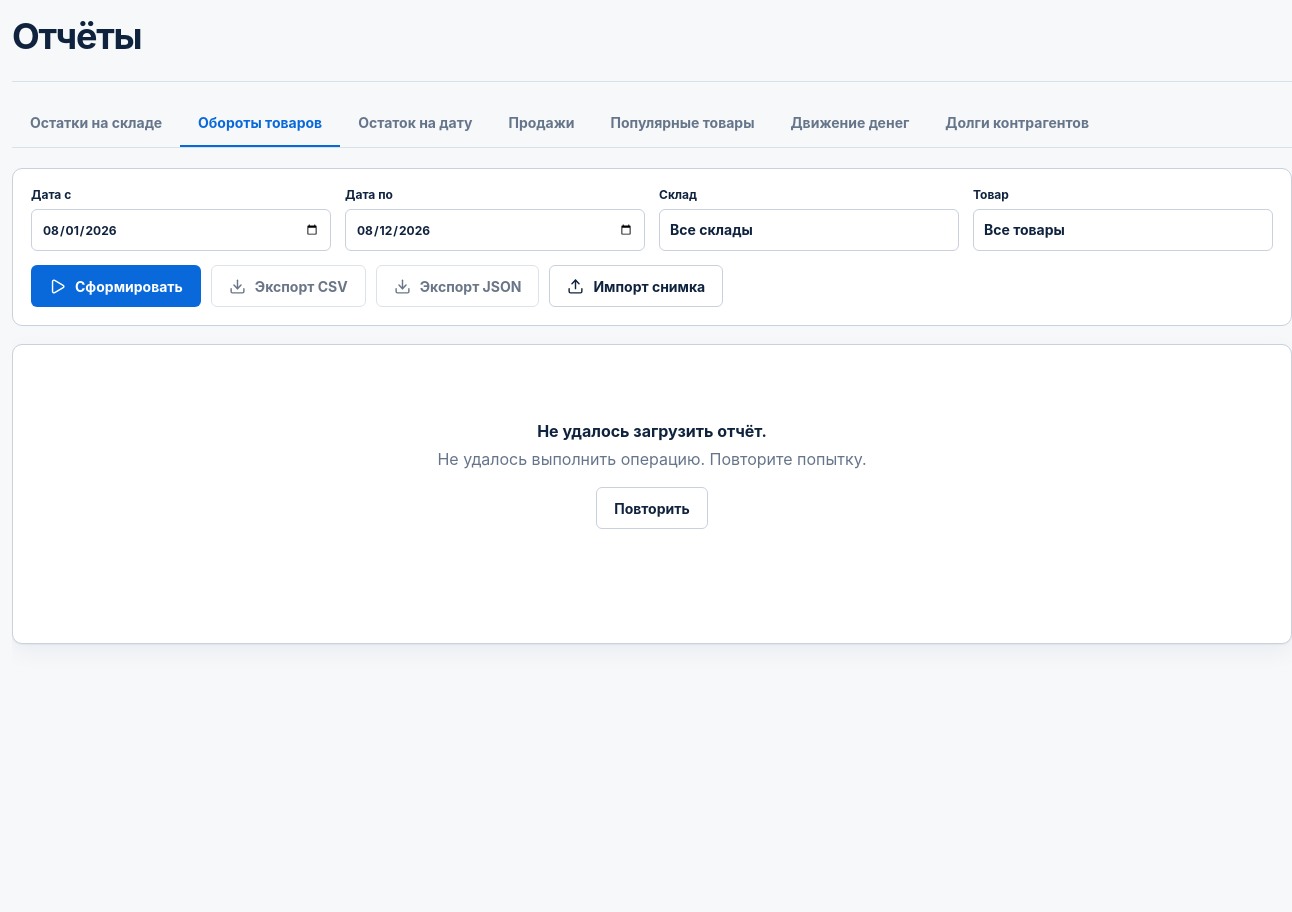
Scenario: reports workspace › shows report errors and retries
Expected: the text "Не удалось загрузить отчёт." is shown, [537,421,767,441]
Click the button "Повторить" at point(652, 508), box [596,487,708,529]
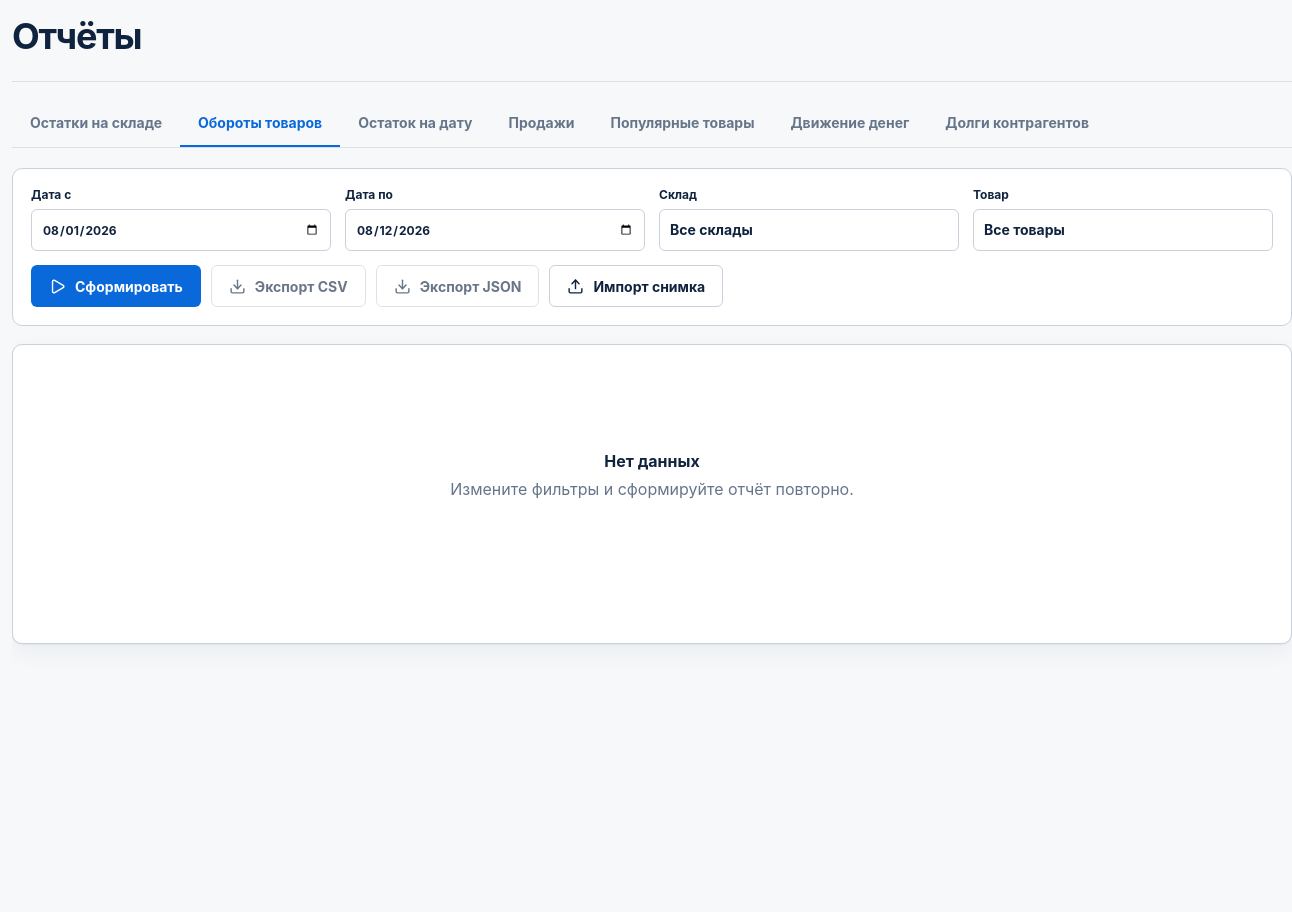
Expected: the text "Нет данных" is shown, [604,451,700,471]
